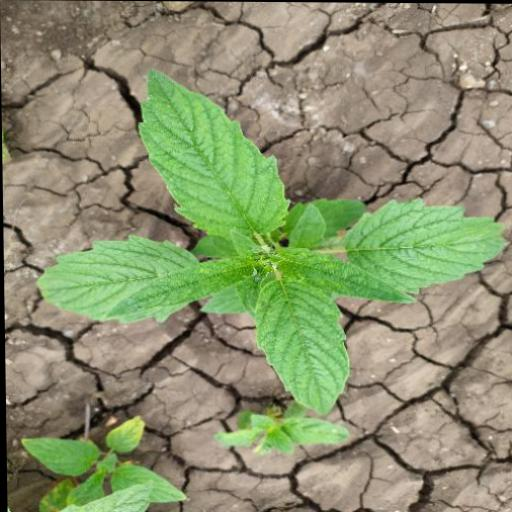crop: (34, 78, 508, 419)
